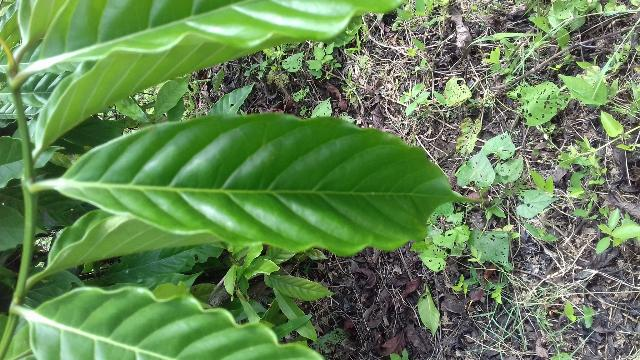healthy: (35, 115, 488, 255)
